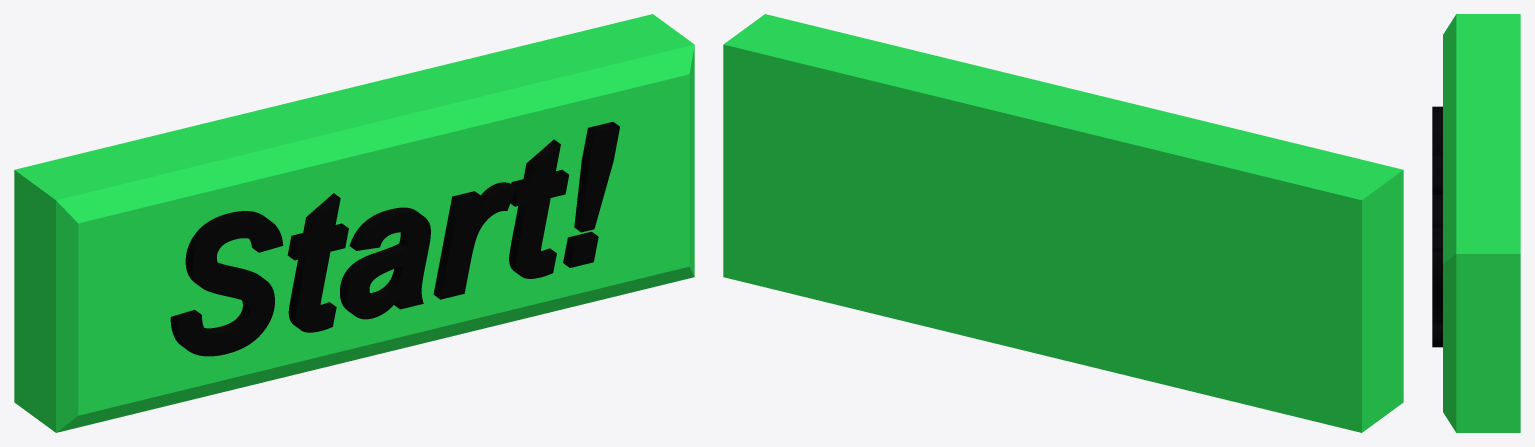
File: Main_Start_Button.fbx
3 renders of one model, left to right at view 1: azimuth 30°, elevation 25°; view 2: azimuth 150°, elevation 25°; view 3: azimuth 270°, elevation 25°, orthographic. The views are drawn at different scales.
Parts seen in each view (by area): view 1: Button; view 2: Button; view 3: Button.
Part boxes in pixels (x1,y1,x2,y2): Button: (14, 14, 694, 432); Button: (723, 14, 1403, 432); Button: (1432, 14, 1520, 432).
Bounding box in the file's own units: 636 × 222 × 98.81.
